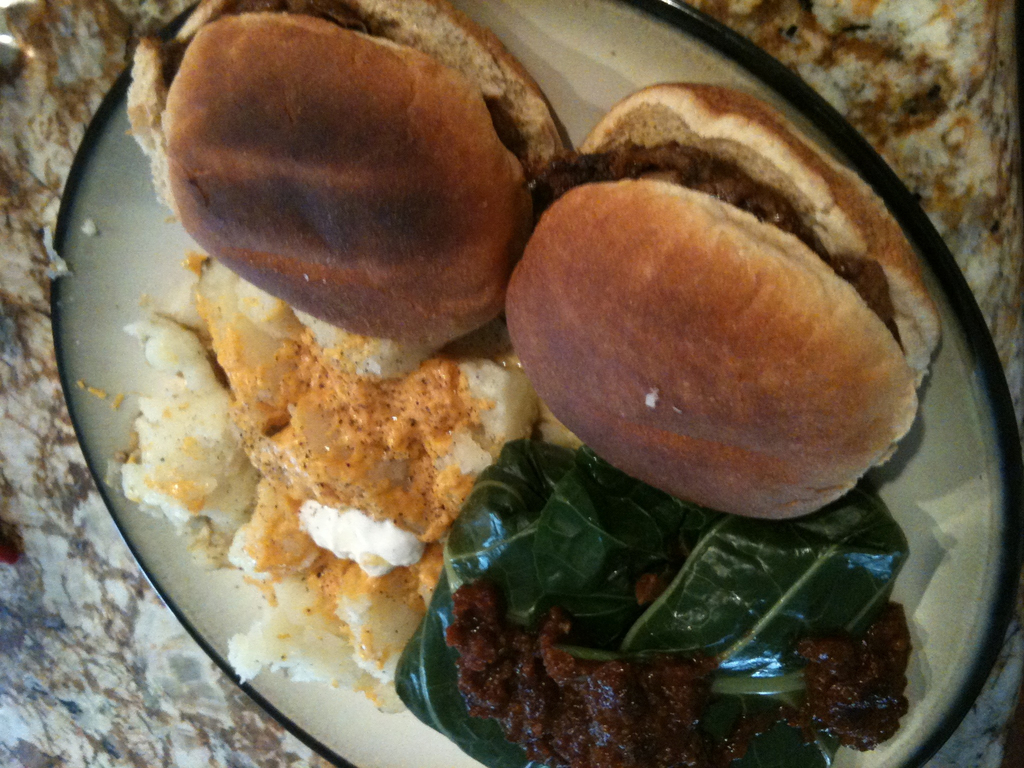Hamburger: (503, 87, 937, 519), (125, 0, 580, 346)
